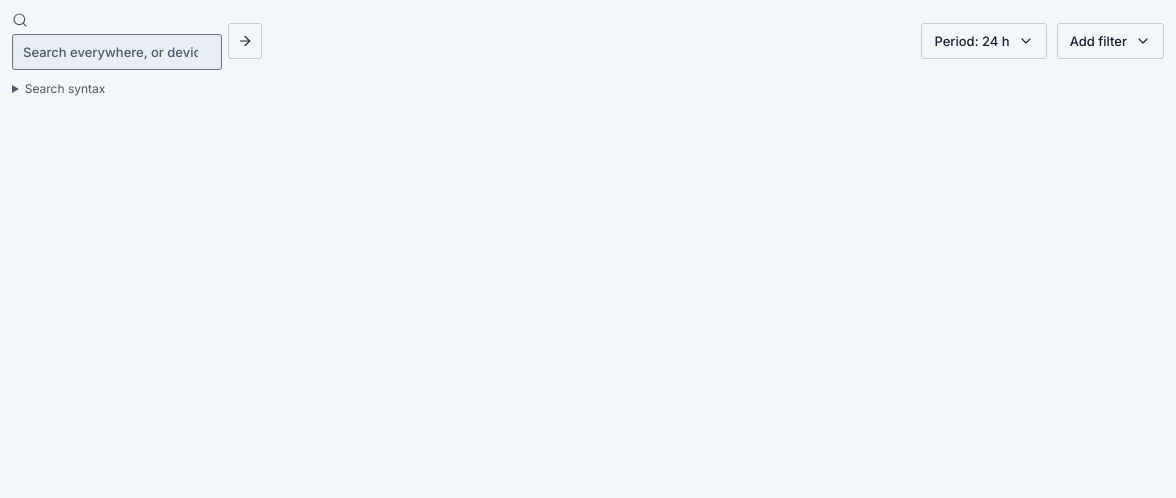
Test: closes a popover on outside focus while keeping the draft unapplied
Click the button "Add filter" at (1110, 41), box 1057,23 -> 1164,59
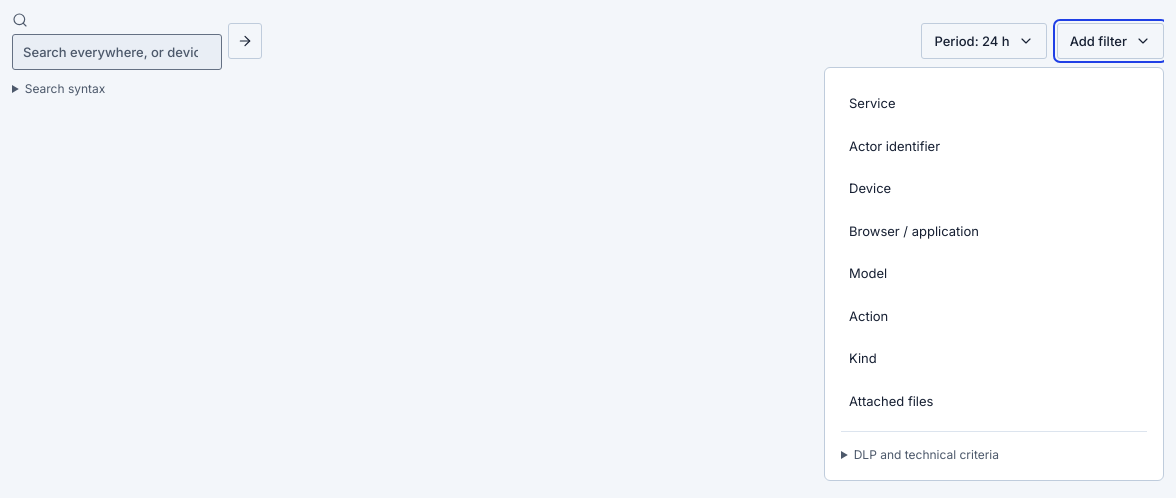
Click the button "Model" at (868, 273), box 841,254 -> 1147,294
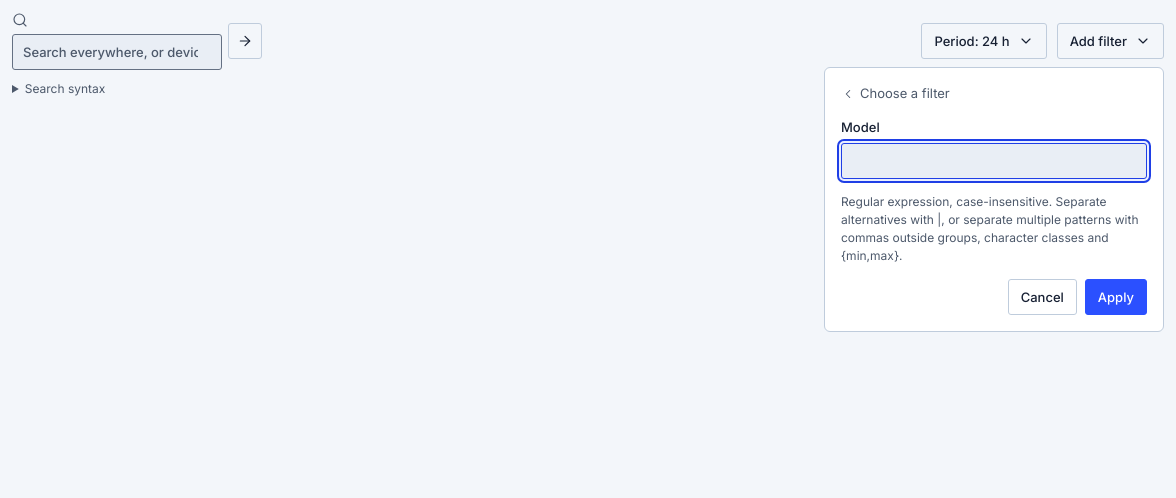
Type "draft" into the field labelled "Model" at (994, 161), box 841,143 -> 1147,179
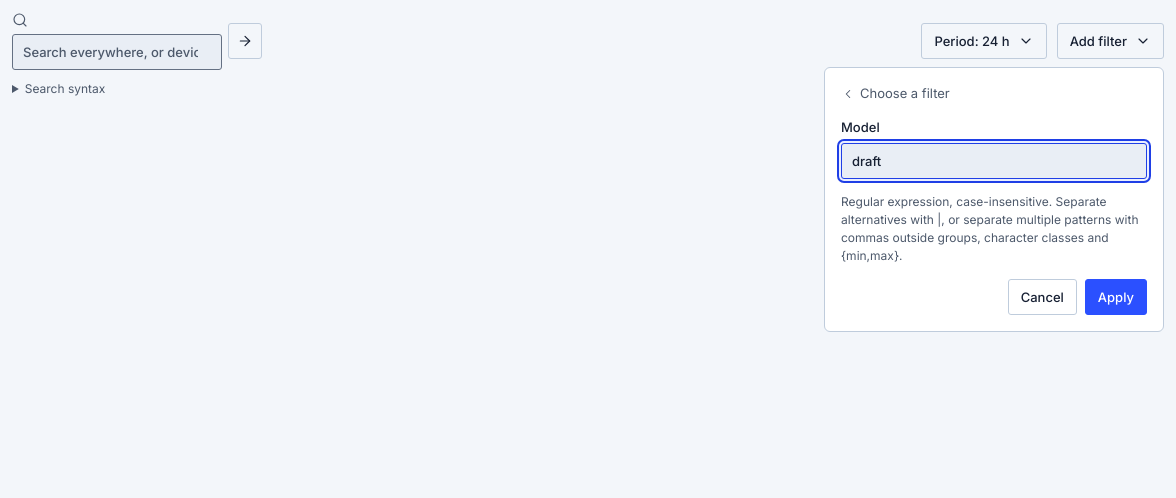
Click the search field at (117, 52), box 12,34 -> 222,70
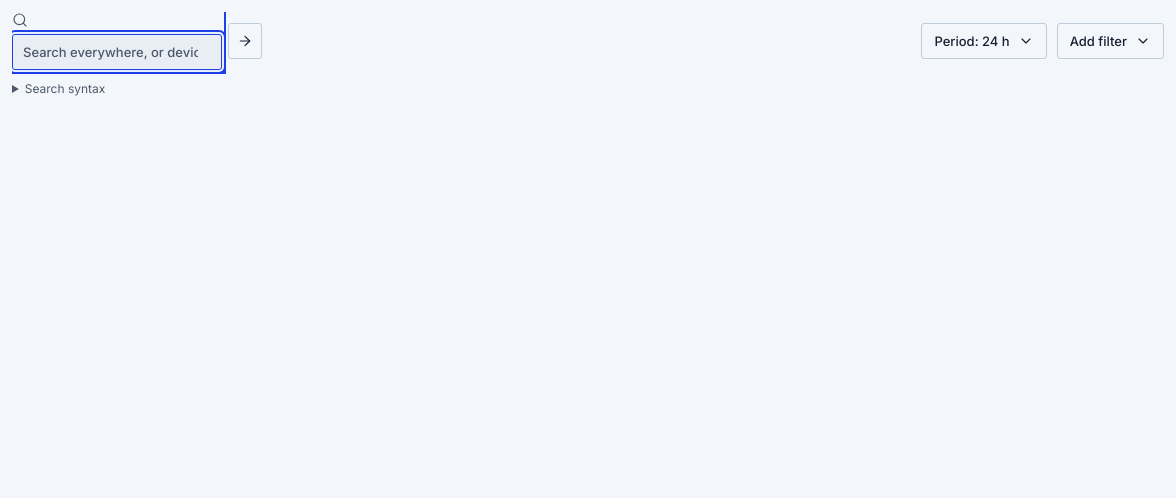
Now the label "Model" is gone
